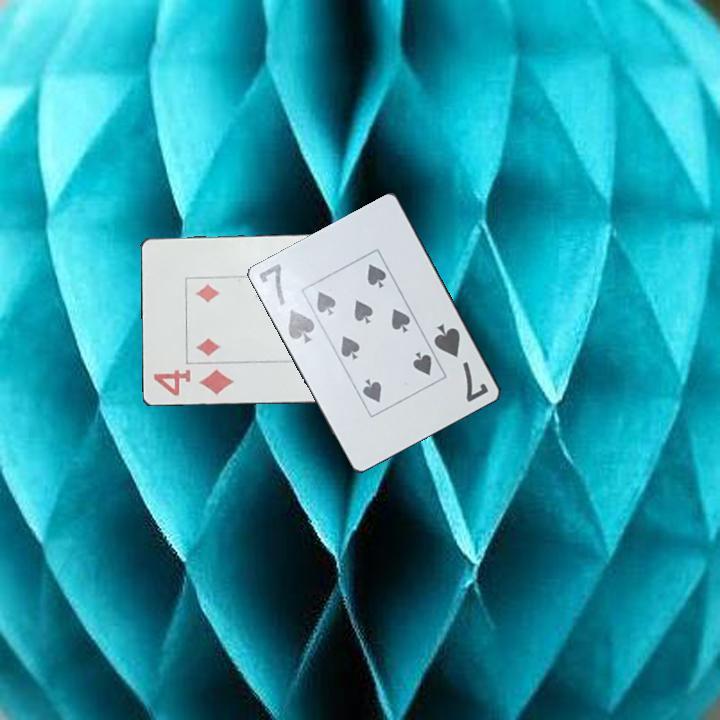4d: (150, 365, 237, 399)
7s: (256, 260, 322, 347), (430, 320, 492, 405)
